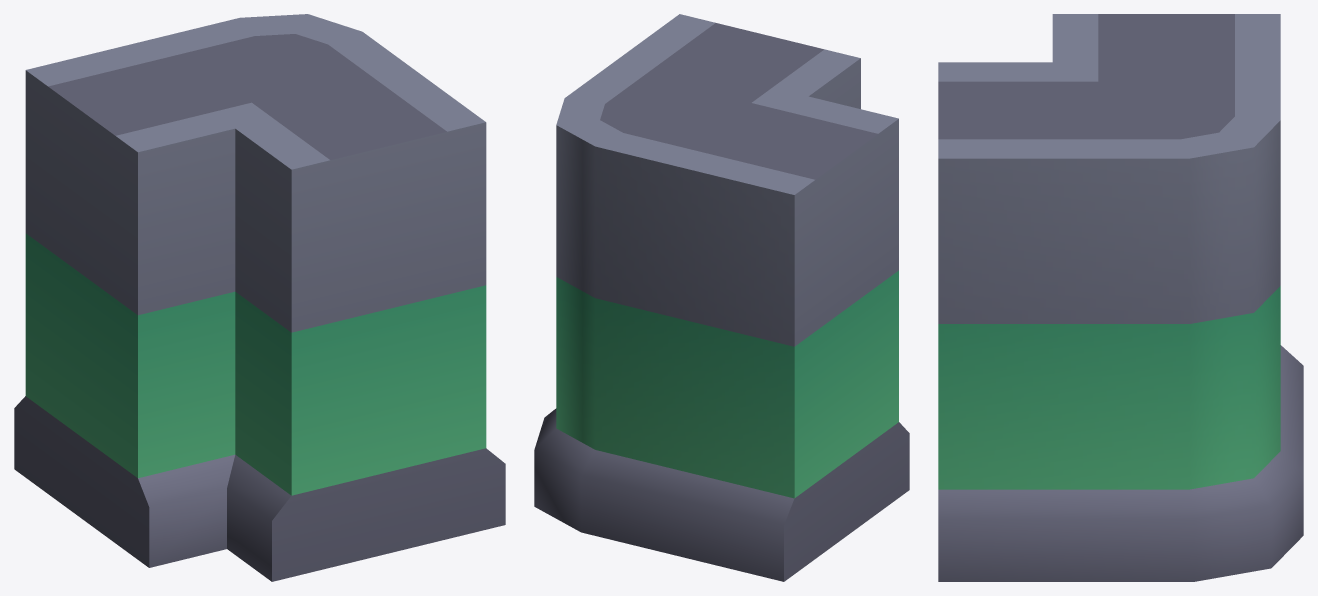
The model's file is wall-corner.glb.
The picture shows the model from 3 angles, left to right: view 1: azimuth 30°, elevation 25°; view 2: azimuth 150°, elevation 25°; view 3: azimuth 270°, elevation 25°; orthographic projection. The views are drawn at different scales.
Visible parts, largest first — view 1: wall-corner; view 2: wall-corner; view 3: wall-corner.
Part boxes in pixels (<box>): wall-corner: <box>14,14,505,581</box>; wall-corner: <box>534,14,909,581</box>; wall-corner: <box>938,14,1303,581</box>.
Size of the model in its own units: 0.8 by 1 by 0.8.
1 material, 1 textured.
